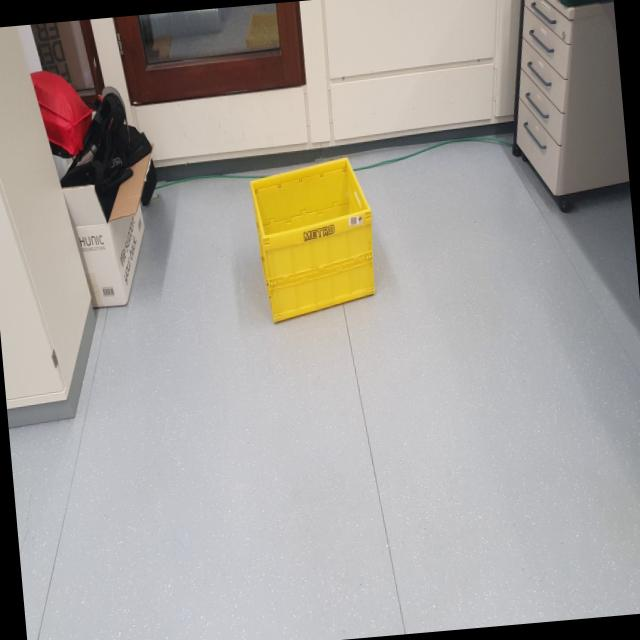box: (246, 145, 383, 334)
